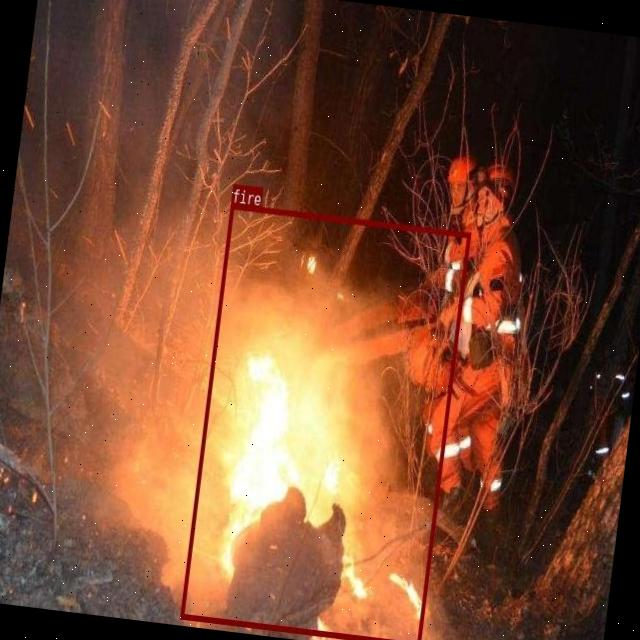fire: (179, 202, 470, 640)
